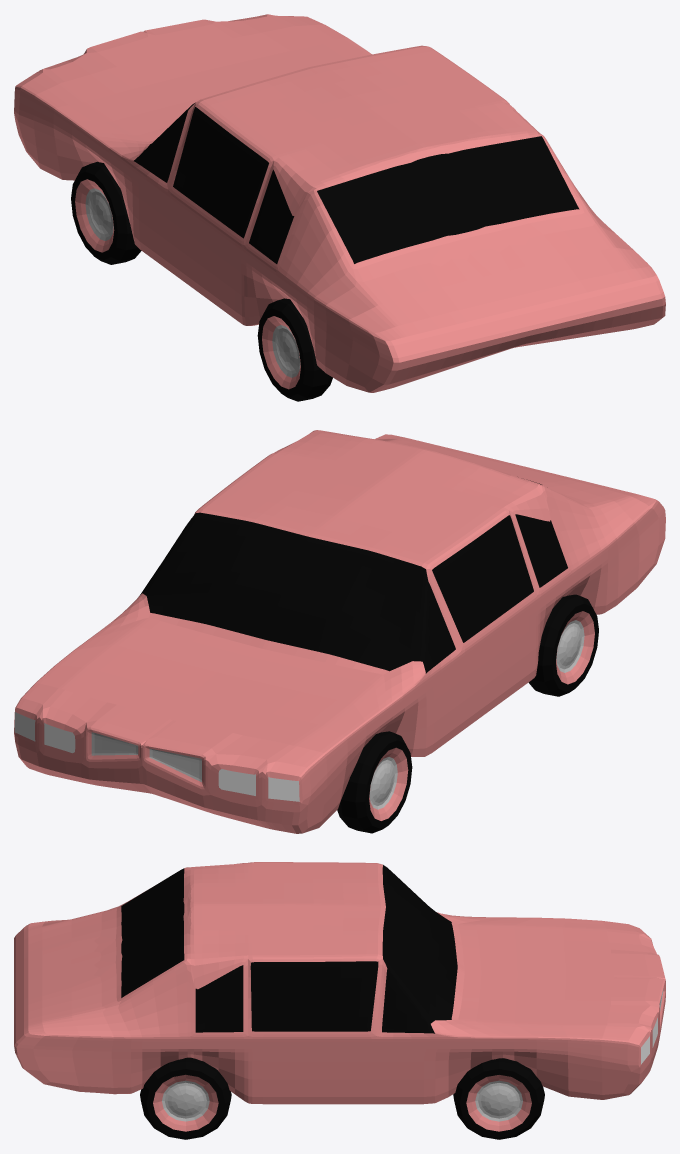
The model's file is RedCar.glb.
The picture shows the model from 3 angles, top to bottom: view 1: azimuth 30°, elevation 25°; view 2: azimuth 150°, elevation 25°; view 3: azimuth 270°, elevation 25°; orthographic projection. The views are drawn at different scales.
Visible parts, largest first — view 1: Red car; view 2: Red car; view 3: Red car.
Boxes of the visible parts, left/top/right/bottom form: Red car: left=14, top=14, right=665, bottom=401; Red car: left=14, top=430, right=665, bottom=833; Red car: left=14, top=862, right=665, bottom=1139.
Size of the model in its own units: 4.92 by 3.41 by 11.25.
